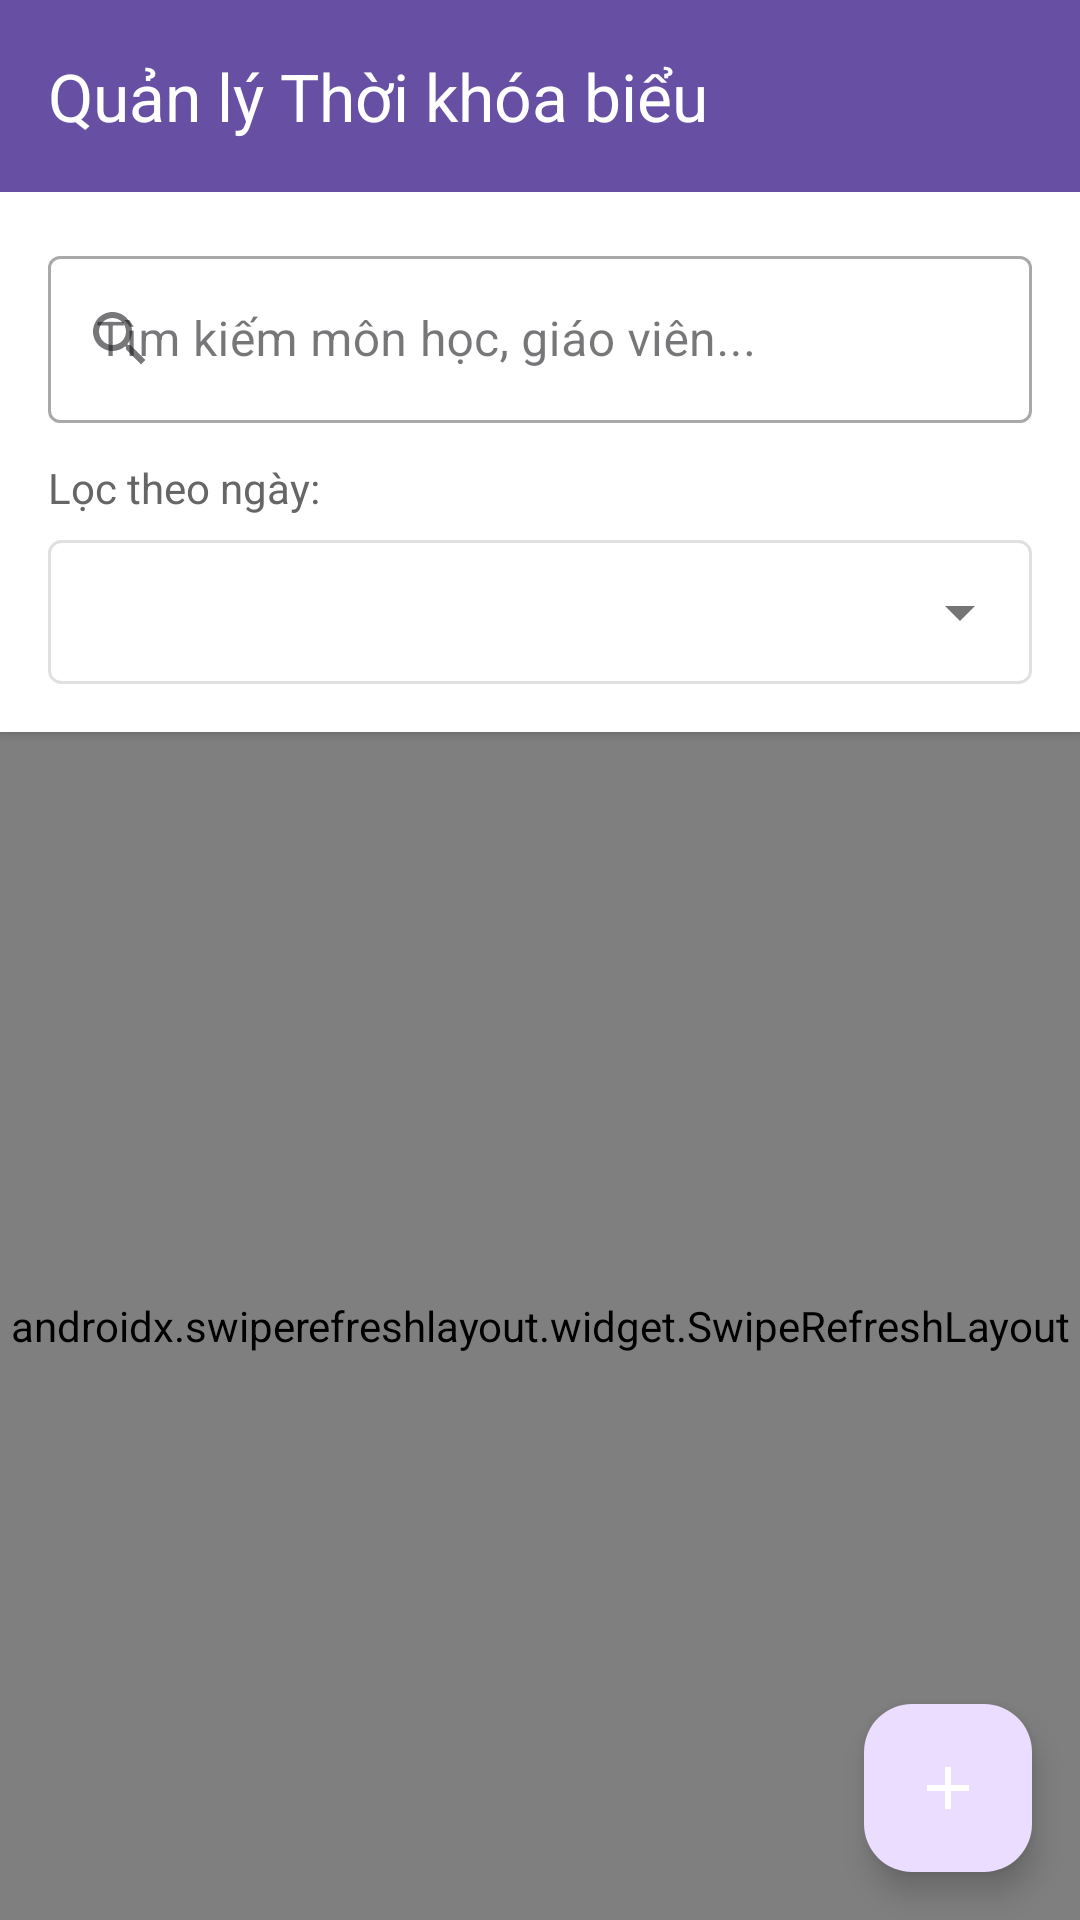

Named icons in this screenshot (1080px×1920px) and their bounding boxes, (x1, y1, x2, y2):
Thêm thời khóa biểu: (864, 1704, 1032, 1872)
